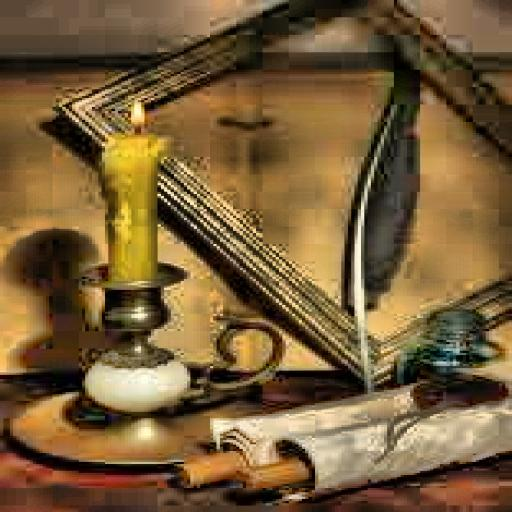fire: (112, 94, 151, 135)
